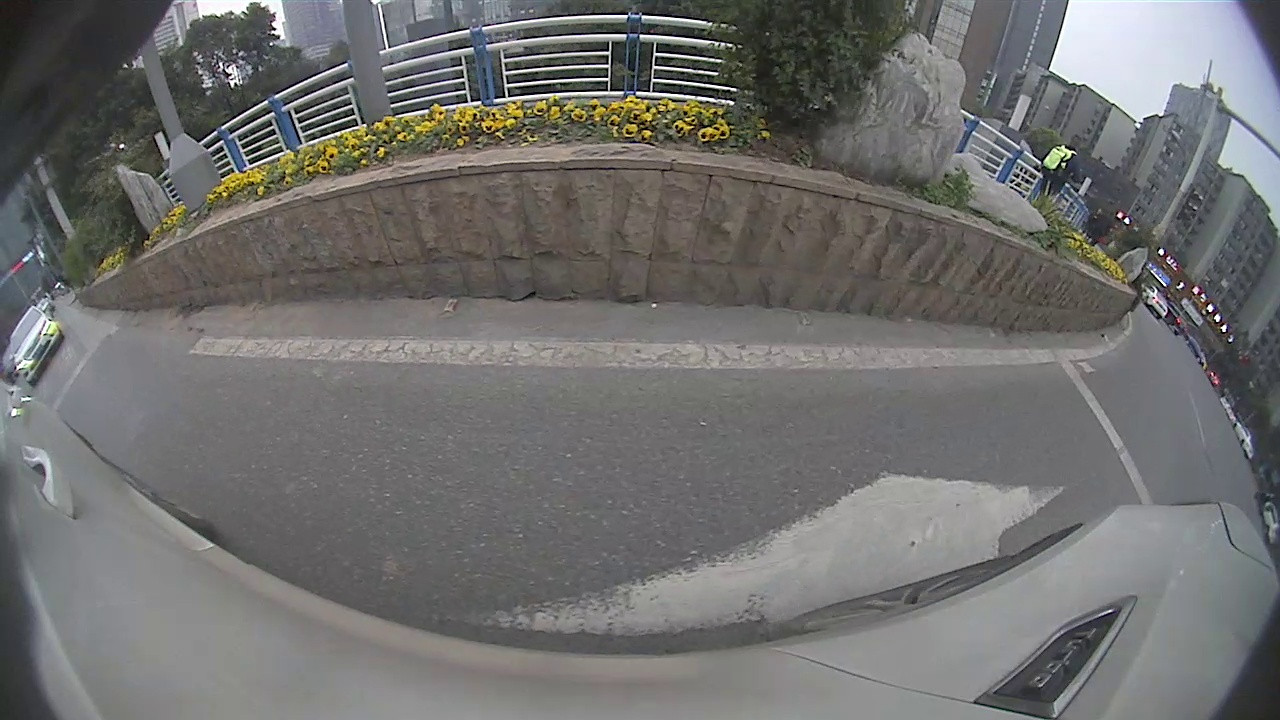car: (5, 304, 64, 388)
